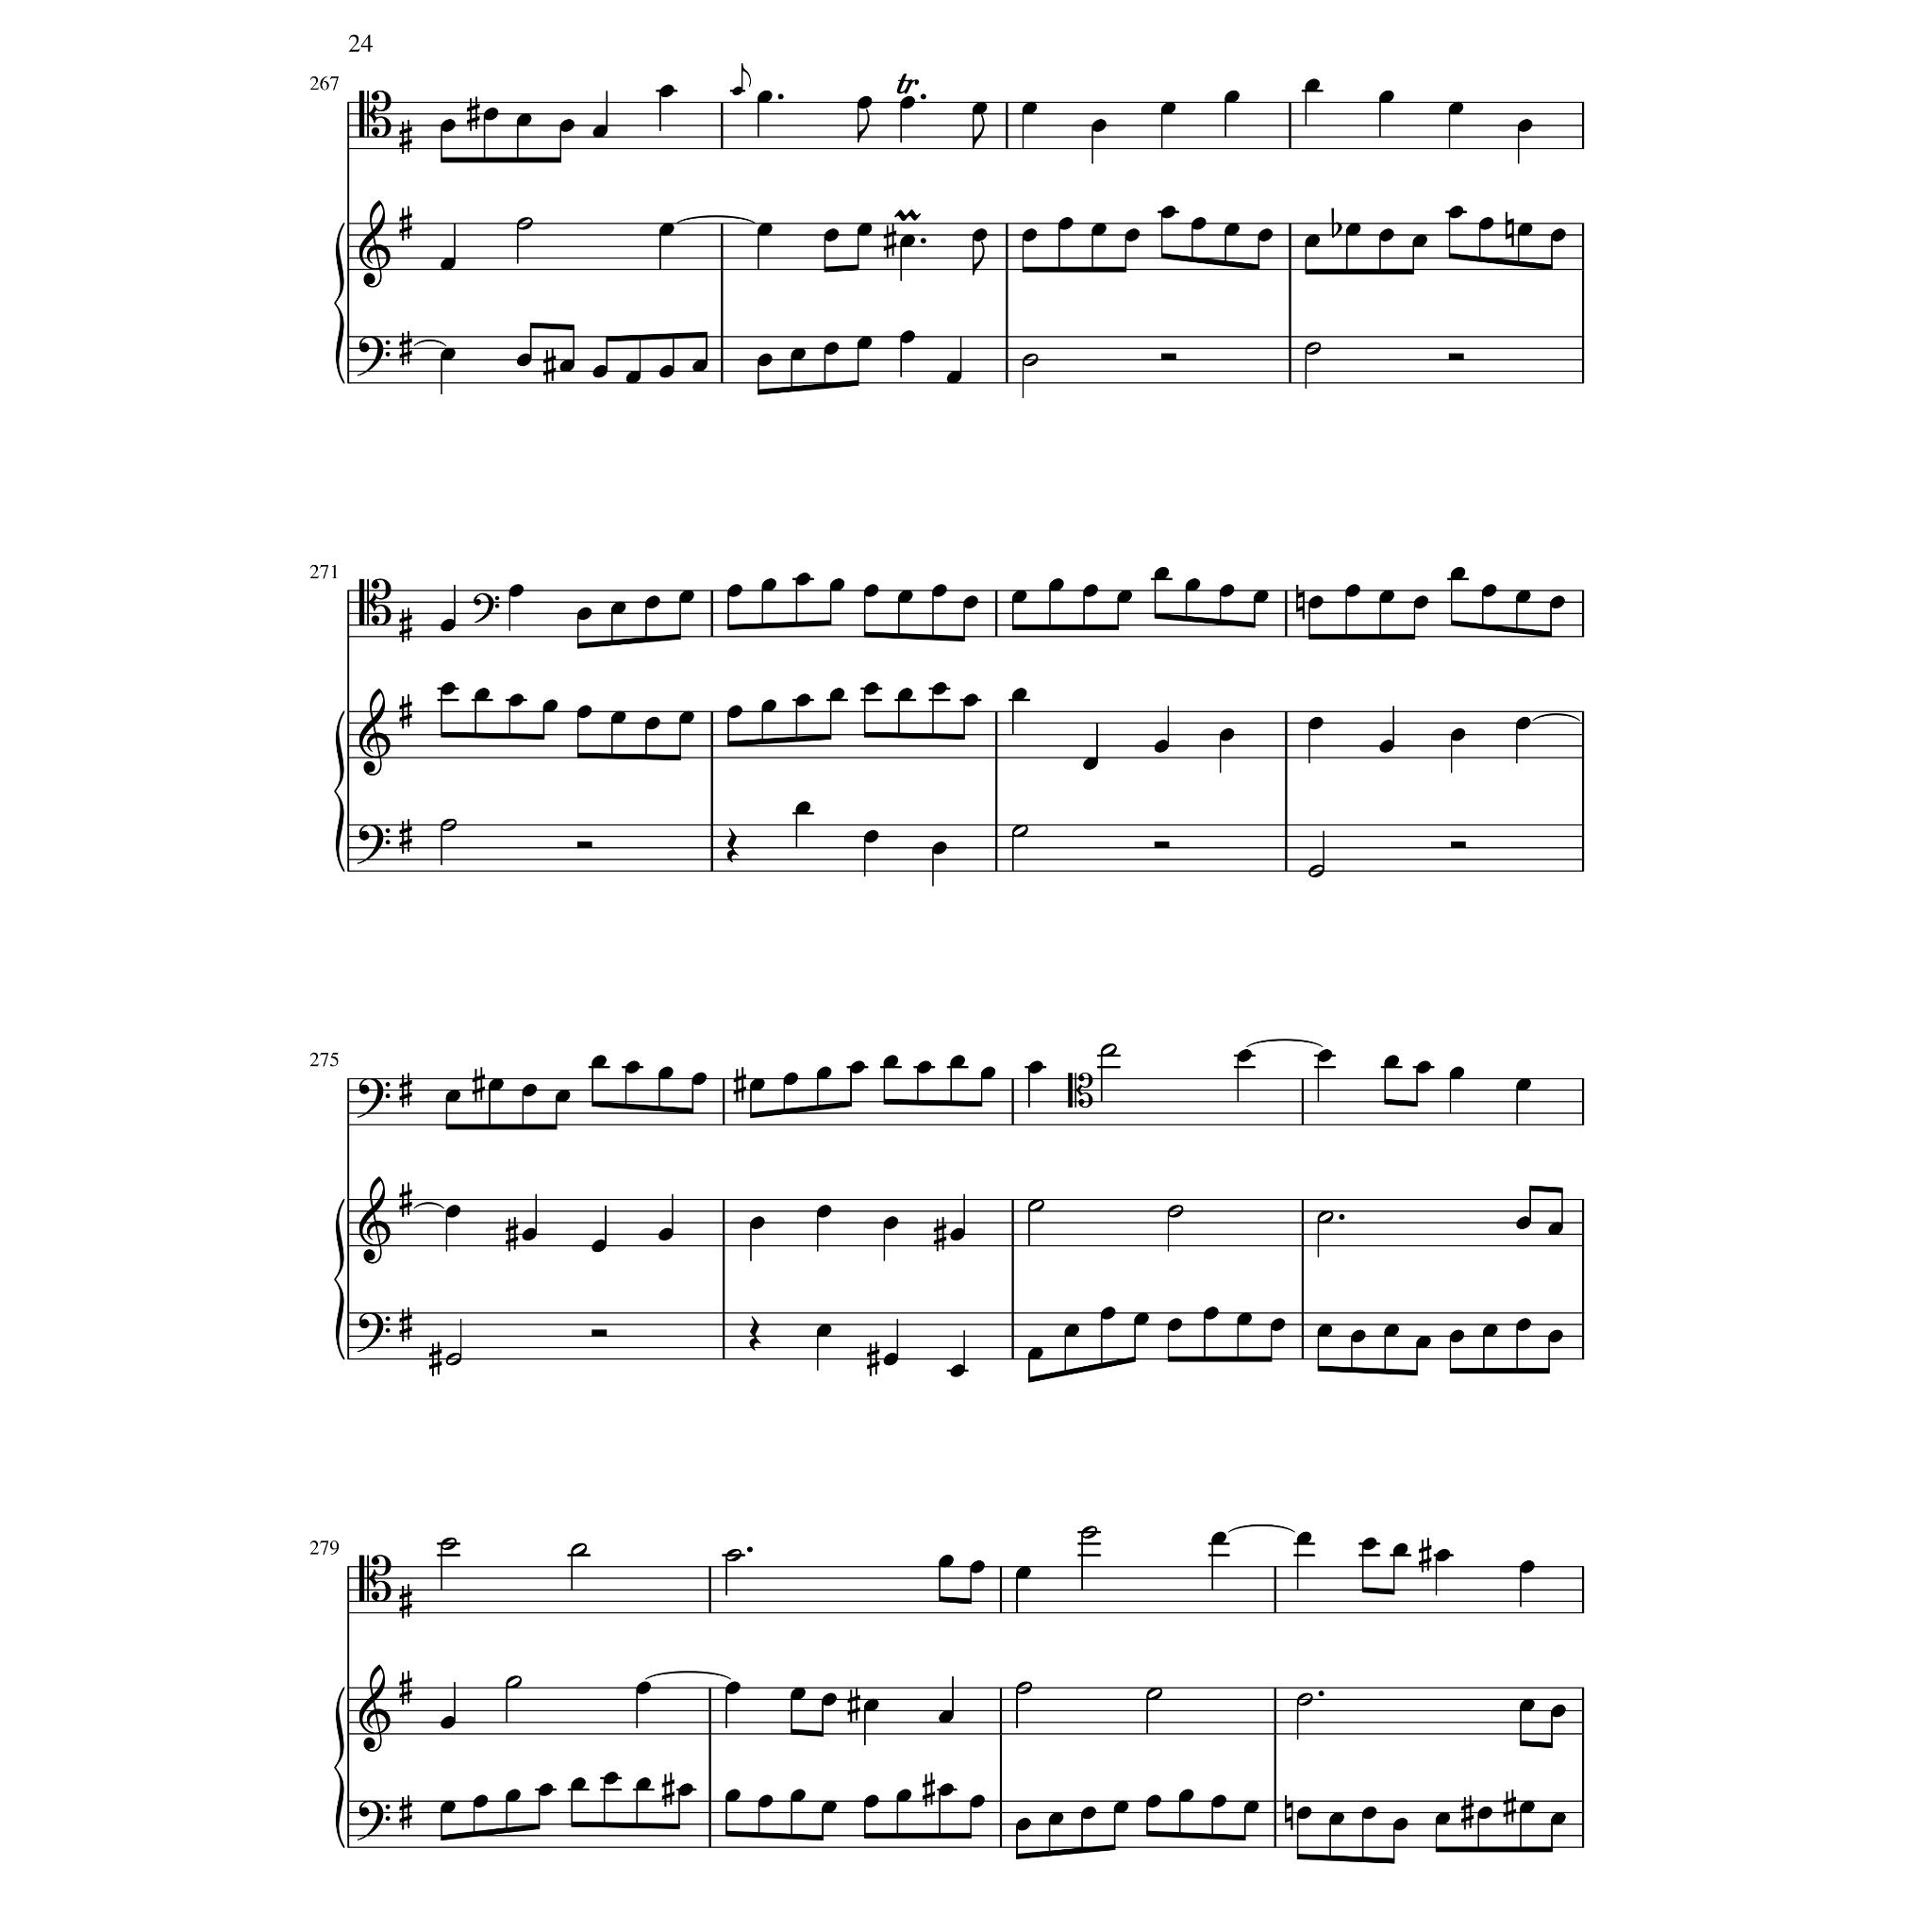brace: (333, 1198, 345, 1361), (333, 1686, 345, 1849), (333, 223, 345, 384), (333, 711, 345, 872)
fClef: (357, 336, 391, 377), (357, 824, 391, 865), (357, 1311, 391, 1352), (357, 1077, 391, 1118), (357, 1801, 391, 1842)
flag8thDown: (971, 241, 984, 276), (971, 115, 984, 150), (856, 110, 869, 143)
flag8thUp: (741, 64, 750, 87)
gClef: (359, 200, 391, 288), (359, 688, 391, 777), (359, 1177, 391, 1265), (359, 1665, 391, 1753)
noteheadBlack: (1056, 216, 1074, 230), (1412, 596, 1430, 610), (1099, 1306, 1116, 1320), (1242, 1799, 1260, 1813), (602, 1771, 619, 1785), (1014, 1817, 1031, 1831), (1014, 1566, 1031, 1580), (1161, 205, 1177, 219), (1304, 80, 1320, 94), (1191, 216, 1207, 230), (1224, 90, 1240, 104), (1092, 119, 1108, 133), (1516, 119, 1532, 133), (1479, 216, 1495, 230), (1447, 205, 1463, 219), (1378, 90, 1394, 104), (593, 364, 609, 379), (559, 359, 575, 373), (559, 119, 575, 133), (692, 359, 708, 373), (658, 364, 674, 379), (441, 257, 456, 271), (441, 119, 456, 133), (856, 336, 872, 350), (856, 96, 872, 110), (899, 96, 915, 110), (757, 90, 773, 104), (1154, 566, 1169, 580), (1116, 589, 1132, 603), (1253, 589, 1269, 603), (962, 694, 978, 708), (1010, 589, 1026, 603), (962, 596, 978, 610), (1548, 596, 1564, 610), (1516, 717, 1532, 731), (1516, 589, 1532, 603), (1307, 717, 1323, 731), (1307, 596, 1323, 610), (1449, 566, 1465, 580), (1378, 589, 1394, 603), (577, 706, 593, 720), (610, 602, 626, 616), (577, 607, 593, 621), (679, 711, 695, 725), (644, 717, 660, 731), (644, 596, 660, 610), (610, 711, 626, 725), (508, 694, 524, 708), (679, 589, 695, 603), (794, 801, 810, 816), (794, 694, 810, 708), (897, 589, 913, 603), (863, 830, 879, 844), (727, 706, 743, 720), (1203, 1306, 1219, 1320), (1316, 1323, 1332, 1338), (1026, 1346, 1042, 1361), (1063, 1323, 1079, 1338), (1548, 1329, 1564, 1343), (1548, 1223, 1564, 1237), (1516, 1215, 1532, 1230), (1516, 1077, 1532, 1092), (1384, 1323, 1399, 1338), (1384, 1054, 1399, 1069), (1350, 1329, 1366, 1343), (1481, 1323, 1497, 1338), (1449, 1329, 1465, 1343), (591, 1054, 607, 1069), (748, 1215, 764, 1230), (748, 1077, 764, 1092), (692, 1072, 708, 1086), (522, 1228, 538, 1242), (658, 1228, 674, 1242), (522, 1083, 538, 1097), (487, 1077, 502, 1092), (950, 1228, 966, 1242), (950, 1054, 966, 1069), (883, 1215, 899, 1230), (883, 1054, 899, 1069), (816, 1323, 832, 1338), (782, 1072, 798, 1086), (1178, 1789, 1194, 1803), (1295, 1530, 1311, 1545), (1210, 1794, 1226, 1808), (1210, 1530, 1226, 1545), (1295, 1806, 1311, 1821), (1047, 1812, 1063, 1826), (1146, 1794, 1162, 1808), (1113, 1799, 1129, 1813), (1079, 1806, 1095, 1821), (1550, 1812, 1566, 1826), (1550, 1704, 1566, 1718), (1520, 1799, 1536, 1813), (1520, 1698, 1536, 1713), (1361, 1806, 1376, 1821), (1392, 1817, 1408, 1831), (1392, 1543, 1408, 1557), (1361, 1537, 1376, 1552), (1329, 1812, 1345, 1826), (1520, 1560, 1536, 1575), (1477, 1806, 1493, 1821), (1435, 1812, 1451, 1826), (635, 1776, 651, 1790), (635, 1681, 651, 1695), (570, 1776, 586, 1790), (725, 1789, 741, 1803), (725, 1681, 741, 1695), (506, 1789, 522, 1803), (472, 1794, 488, 1808), (441, 1799, 456, 1813), (895, 1789, 911, 1803), (863, 1794, 879, 1808), (863, 1698, 879, 1713), (970, 1794, 985, 1808), (970, 1560, 985, 1575), (791, 1789, 807, 1803), (757, 1794, 773, 1808), (821, 1799, 837, 1813), (1256, 228, 1274, 241), (1184, 579, 1201, 591), (1123, 228, 1139, 241), (1161, 103, 1177, 115), (1304, 235, 1320, 248), (1224, 223, 1240, 235), (1021, 103, 1037, 115), (1021, 228, 1037, 241), (971, 228, 987, 241), (971, 103, 987, 115), (1092, 223, 1108, 235), (1550, 228, 1566, 241), (1516, 223, 1532, 235), (1345, 223, 1361, 235), (1447, 103, 1463, 115), (1412, 235, 1428, 248), (1378, 228, 1394, 241), (593, 126, 609, 138), (658, 223, 674, 235), (658, 85, 674, 97), (625, 372, 640, 384), (515, 354, 531, 366), (515, 113, 531, 126), (483, 108, 499, 120), (441, 349, 456, 361), (856, 223, 872, 235), (823, 228, 839, 241), (947, 372, 962, 384), (823, 343, 839, 356), (899, 331, 915, 343), (899, 235, 915, 248), (757, 354, 773, 366), (757, 223, 773, 235), (791, 349, 807, 361), (1154, 740, 1169, 752), (1083, 586, 1099, 598), (1083, 757, 1099, 770), (1010, 688, 1026, 701), (1049, 579, 1065, 591), (1481, 586, 1497, 598), (1449, 729, 1465, 741), (1378, 740, 1394, 752), (1345, 586, 1361, 598), (541, 701, 557, 713), (932, 842, 948, 855), (508, 586, 524, 598), (474, 688, 490, 701), (441, 683, 456, 695), (441, 619, 456, 632), (828, 688, 844, 701), (828, 579, 844, 591), (863, 586, 879, 598), (794, 573, 810, 586), (932, 683, 948, 695), (932, 586, 948, 598), (897, 688, 913, 701), (863, 683, 879, 695), (761, 701, 777, 713), (761, 579, 777, 591), (727, 586, 743, 598), (1237, 1049, 1253, 1062), (1237, 1313, 1253, 1325), (1166, 1318, 1182, 1330), (1026, 1062, 1042, 1074), (1316, 1049, 1332, 1062), (1269, 1318, 1284, 1330), (1134, 1313, 1150, 1325), (1516, 1318, 1532, 1330), (1449, 1067, 1465, 1079), (1415, 1336, 1431, 1348), (1415, 1062, 1431, 1074), (591, 1240, 607, 1253), (554, 1090, 570, 1102), (658, 1067, 674, 1079), (625, 1062, 640, 1074), (444, 1205, 460, 1217), (444, 1090, 460, 1102), (950, 1364, 966, 1376), (849, 1062, 865, 1074), (916, 1062, 932, 1074), (883, 1353, 899, 1366), (980, 1067, 996, 1079), (816, 1205, 832, 1217), (816, 1067, 832, 1079), (1435, 1550, 1451, 1562), (538, 1783, 554, 1796), (678, 1783, 694, 1796), (441, 1716, 456, 1729), (938, 1783, 954, 1796), (938, 1711, 954, 1723), (938, 1555, 954, 1568), (791, 1688, 807, 1700), (821, 1693, 837, 1706), (1219, 729, 1233, 741), (1219, 586, 1233, 598), (731, 87, 743, 96)
noteheadHalf: (1307, 863, 1325, 878), (1316, 1210, 1334, 1224), (570, 1543, 587, 1557), (439, 1537, 456, 1552), (517, 218, 533, 232), (1012, 824, 1028, 839), (1081, 1525, 1097, 1539), (1016, 1681, 1031, 1695), (1304, 343, 1322, 356), (1021, 354, 1039, 366), (439, 819, 456, 832), (444, 1353, 462, 1366), (504, 1675, 522, 1688), (1168, 1205, 1184, 1217), (1028, 1200, 1044, 1212), (1100, 1044, 1116, 1056), (1297, 1693, 1313, 1706), (1146, 1688, 1162, 1700), (725, 1550, 741, 1562)
restHalf: (1161, 352, 1177, 361), (1447, 352, 1463, 361), (591, 1329, 607, 1338), (1154, 842, 1169, 849), (1449, 842, 1465, 849), (577, 842, 593, 849)
restQuarter: (725, 828, 738, 863), (748, 1316, 761, 1352)
